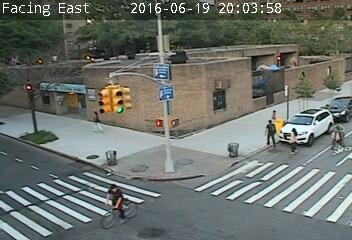neg: (96, 178, 133, 228), (324, 117, 350, 152), (223, 145, 246, 176), (135, 117, 152, 140), (28, 41, 45, 64), (199, 149, 216, 171), (171, 109, 187, 131), (154, 162, 168, 181), (99, 149, 112, 167), (100, 29, 112, 46), (202, 39, 213, 54), (152, 29, 162, 43), (216, 104, 226, 117)
pos: (282, 127, 303, 154), (260, 117, 280, 145), (87, 109, 104, 132), (272, 108, 280, 119)
